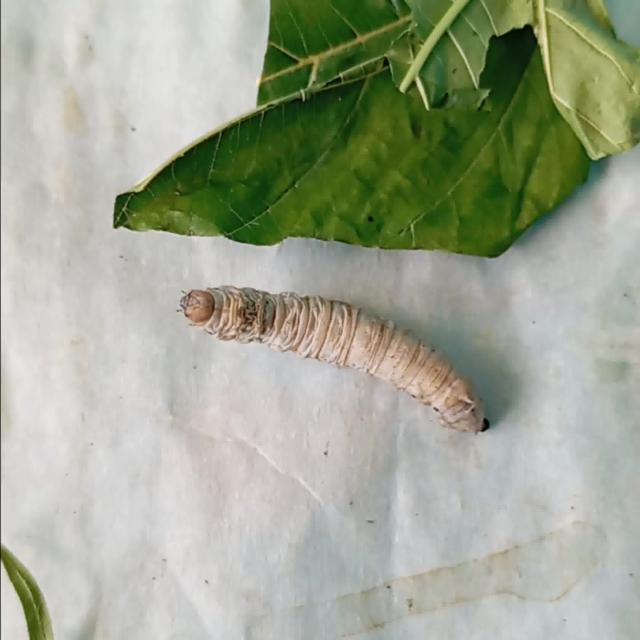Grasserie: (156, 262, 505, 458)
